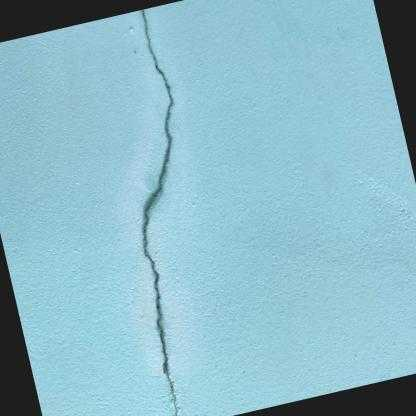crack: (141, 9, 179, 416)
